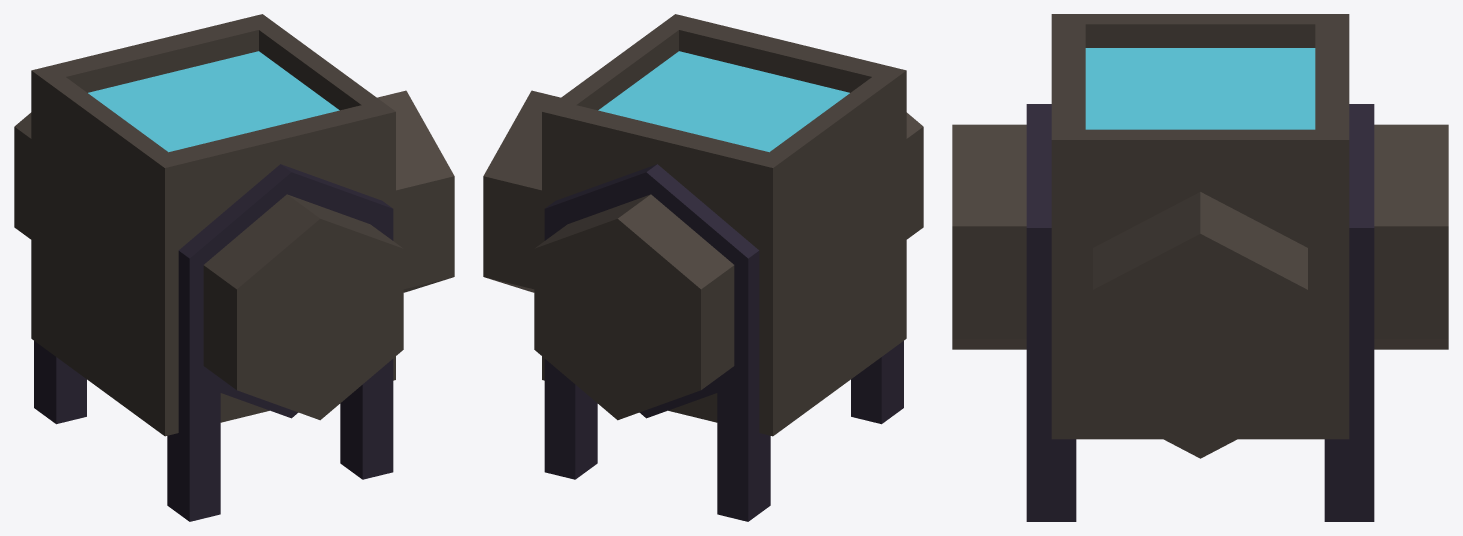
The model's file is MixerLow.fbx.
The picture shows the model from 3 angles, left to right: view 1: azimuth 30°, elevation 25°; view 2: azimuth 150°, elevation 25°; view 3: azimuth 270°, elevation 25°; orthographic projection. The views are drawn at different scales.
Visible parts, largest first — view 1: Mixer_LOD1; view 2: Mixer_LOD1; view 3: Mixer_LOD1.
Boxes of the visible parts, x1,y1,x2,y2 form: Mixer_LOD1: [14, 14, 454, 521]; Mixer_LOD1: [483, 14, 923, 521]; Mixer_LOD1: [952, 14, 1448, 521].
Size of the model in its own units: 80 by 86.55 by 100.
